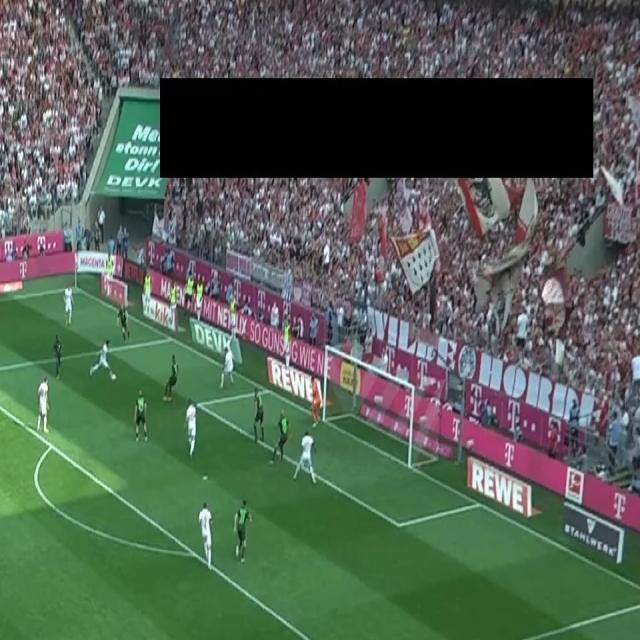ball: (111, 372, 117, 382)
